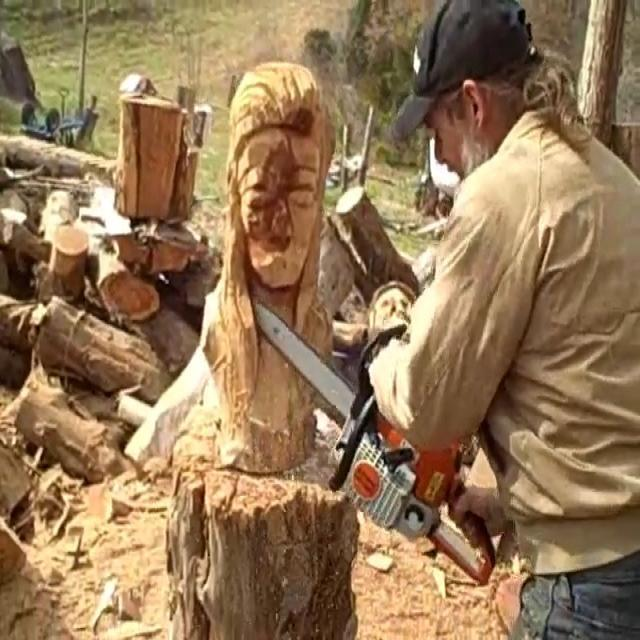Chainsaw: (237, 282, 516, 596)
